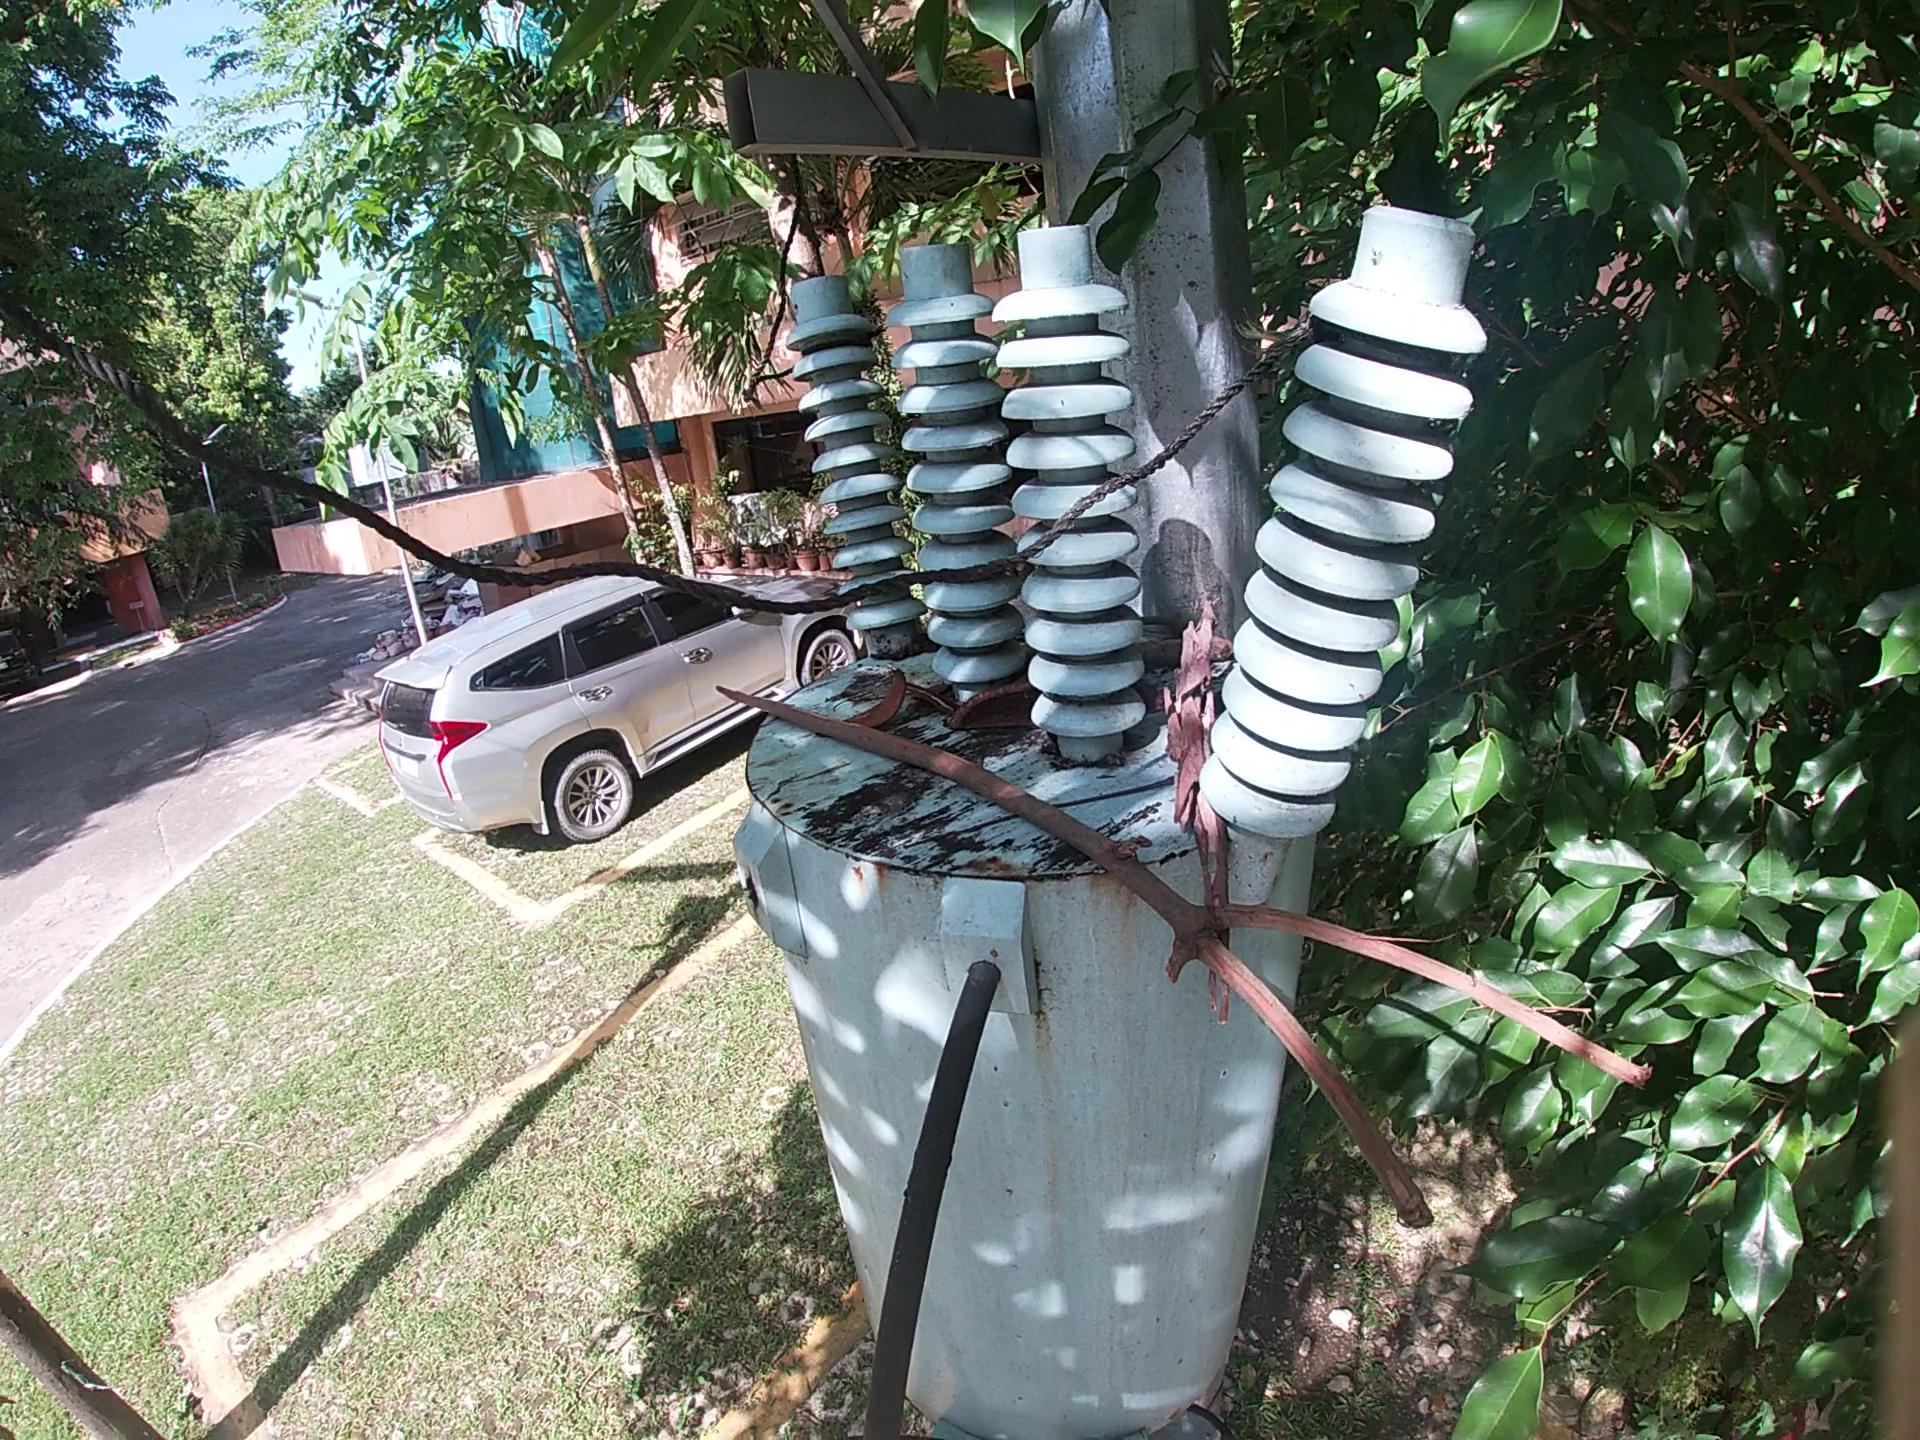mahogany fruit: (945, 682, 1033, 755), (853, 663, 912, 725), (1141, 691, 1182, 722)
tree branch: (714, 681, 1687, 1316), (1169, 588, 1238, 1027), (903, 771, 1178, 855), (1147, 646, 1240, 675), (909, 684, 955, 714)
